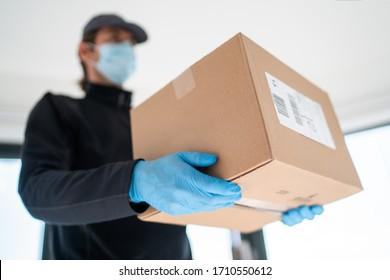gloves: (129, 151, 242, 214), (282, 204, 324, 226)
